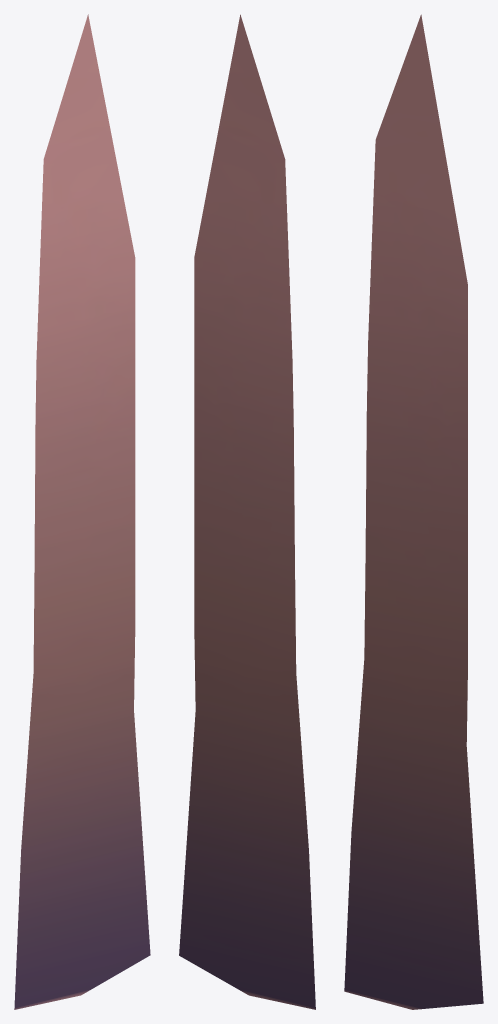
The model's file is leaf2.fbx.
The picture shows the model from 3 angles, left to right: view 1: azimuth 30°, elevation 25°; view 2: azimuth 150°, elevation 25°; view 3: azimuth 330°, elevation 25°; orthographic projection.
Parts seen in each view (by area): view 1: leaf2; view 2: leaf2; view 3: leaf2.
Part boxes in pixels (x1,y1,x2,y2): leaf2: [14, 14, 150, 1009]; leaf2: [179, 14, 315, 1009]; leaf2: [344, 14, 483, 1009].
Bounding box in the file's own units: 0.00169 × 0.0116 × 1.85e-05.
1 material, 1 textured.
